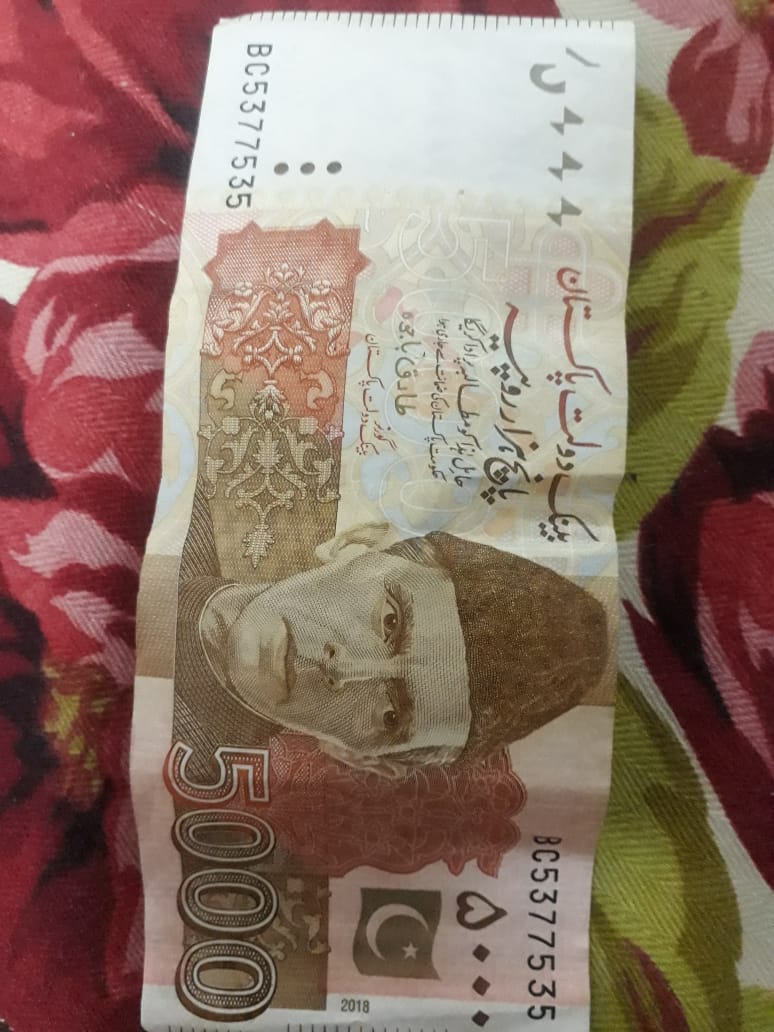5000 rupee: (121, 18, 611, 1032)
